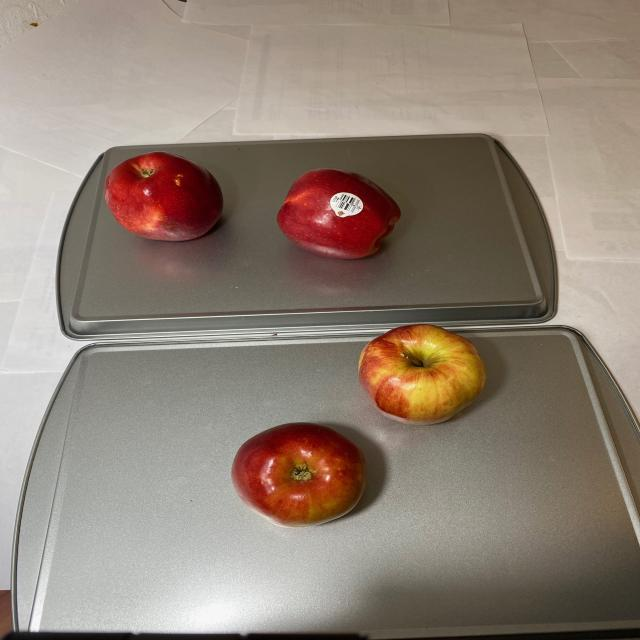apple: (225, 324, 492, 529), (97, 151, 407, 266)
